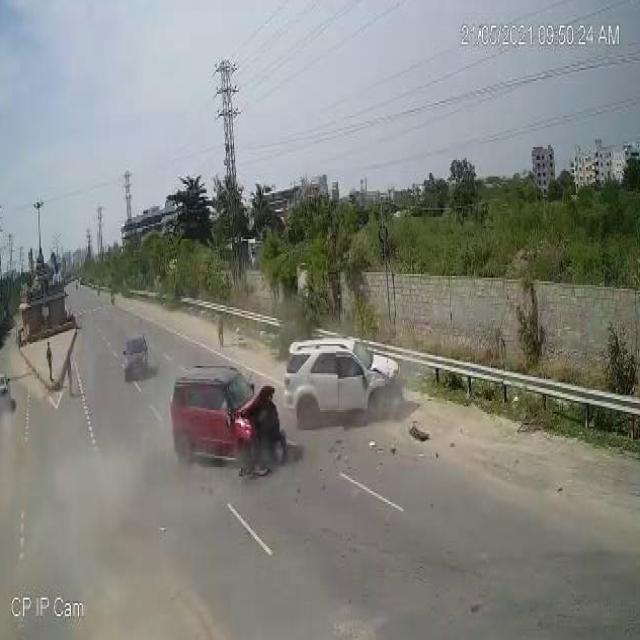accident: (166, 325, 410, 483)
